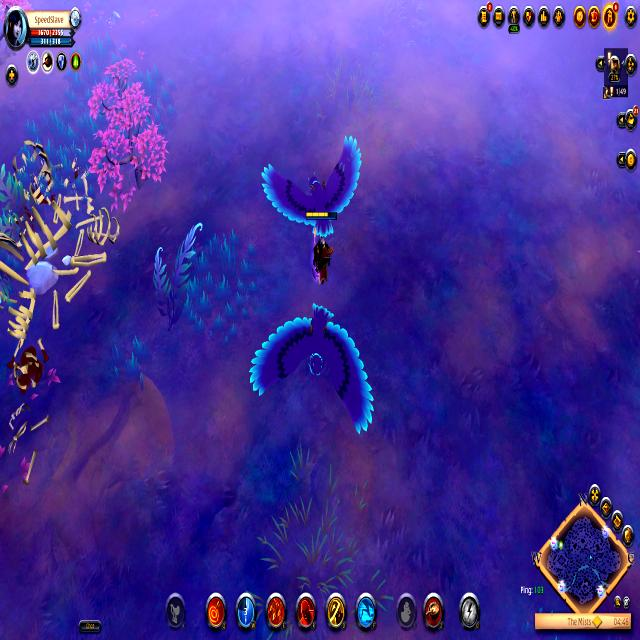red: (302, 204, 340, 288)
